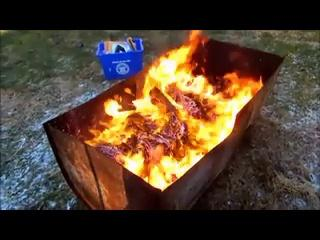fire: (98, 32, 265, 192)
